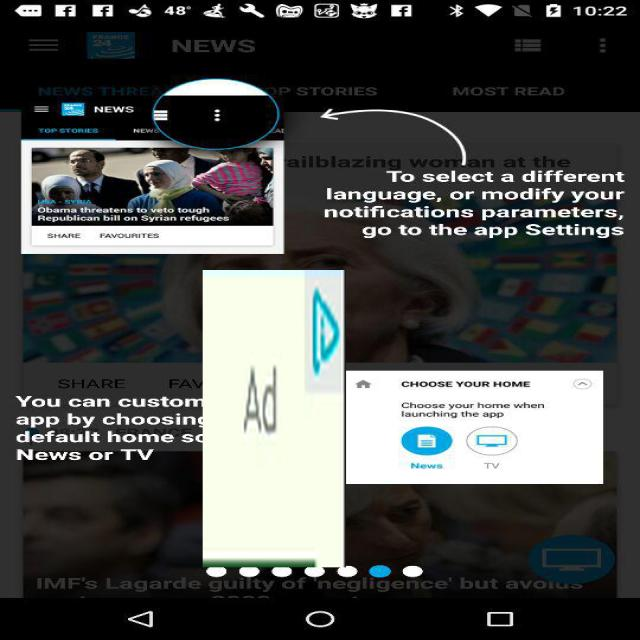sneaking: (203, 270, 346, 567)
